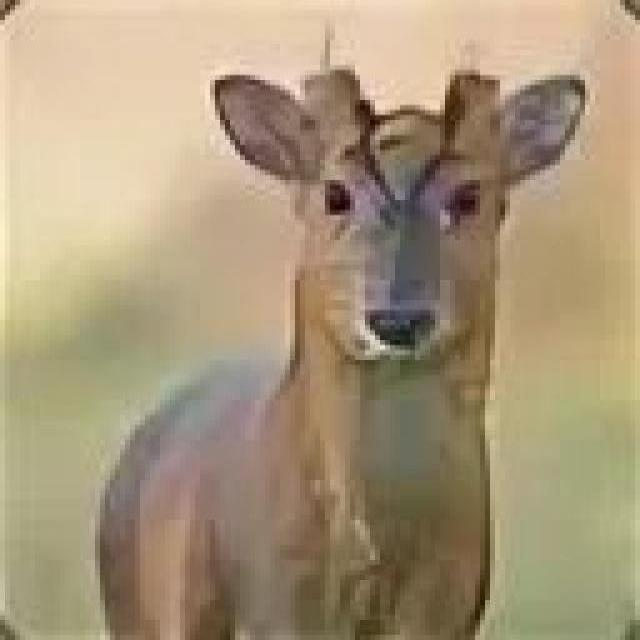deer: (66, 41, 562, 599)
